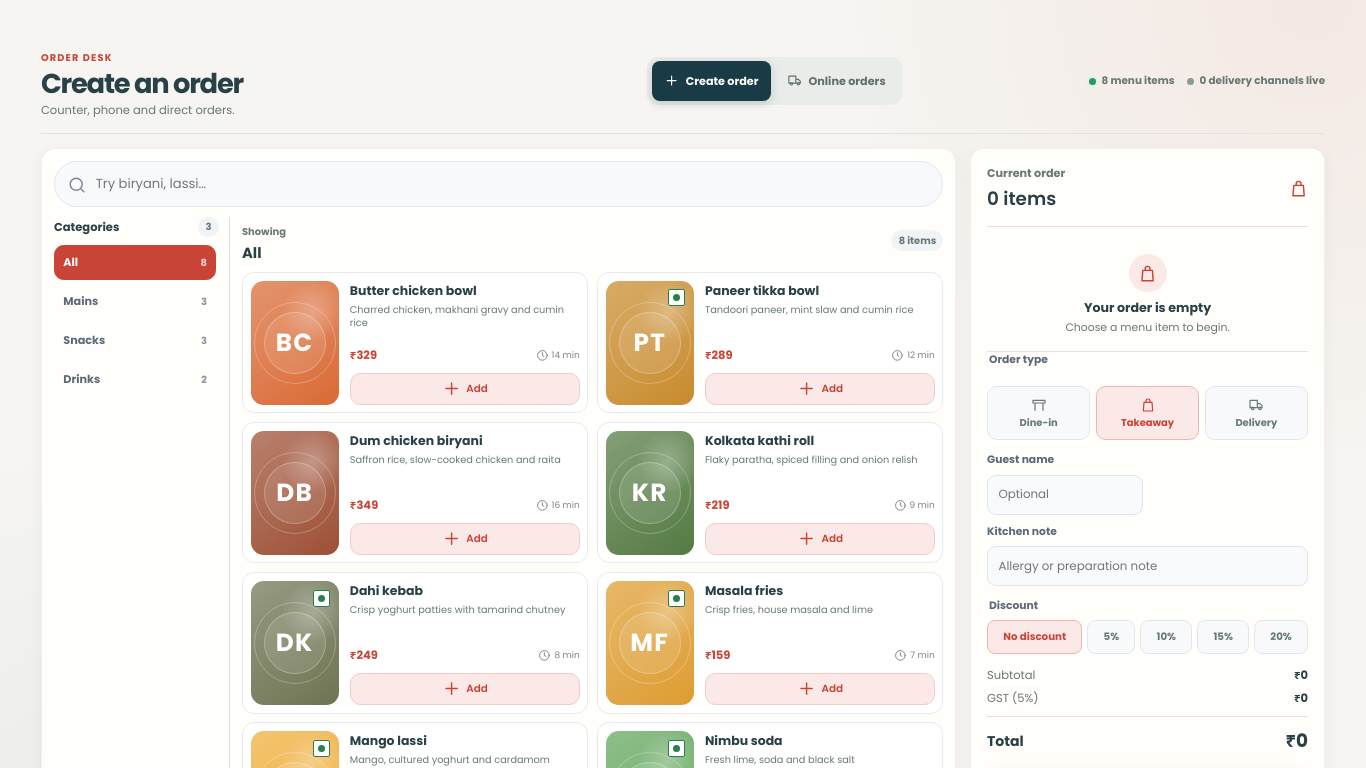
order entry › builds and sends a ticket using touch controls
The image size is (1366, 768).
Click the button "Add" below "₹329".
click(465, 389)  # box [350,373,580,405]
(page scrolled)
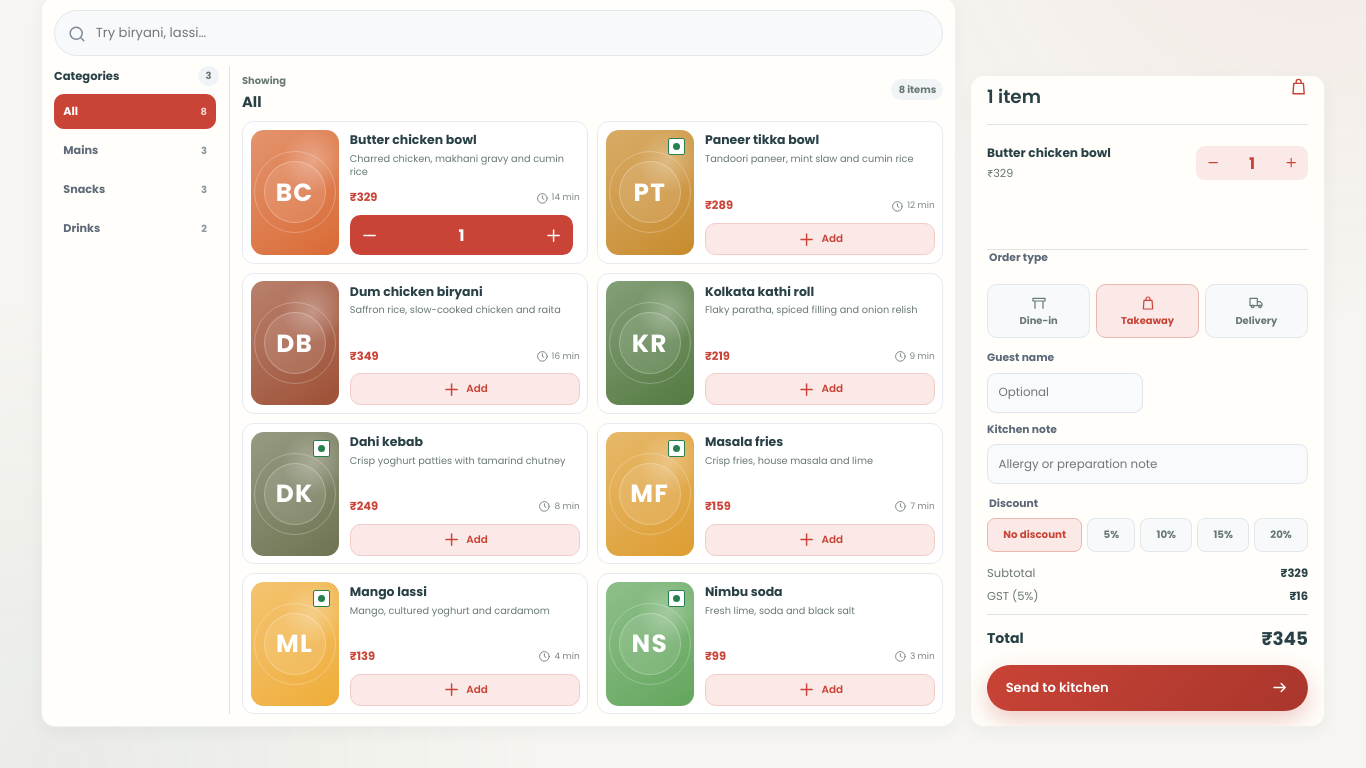
Click the button "Send to kitchen".
click(1057, 687)  # box [987,665,1308,711]
(page scrolled)
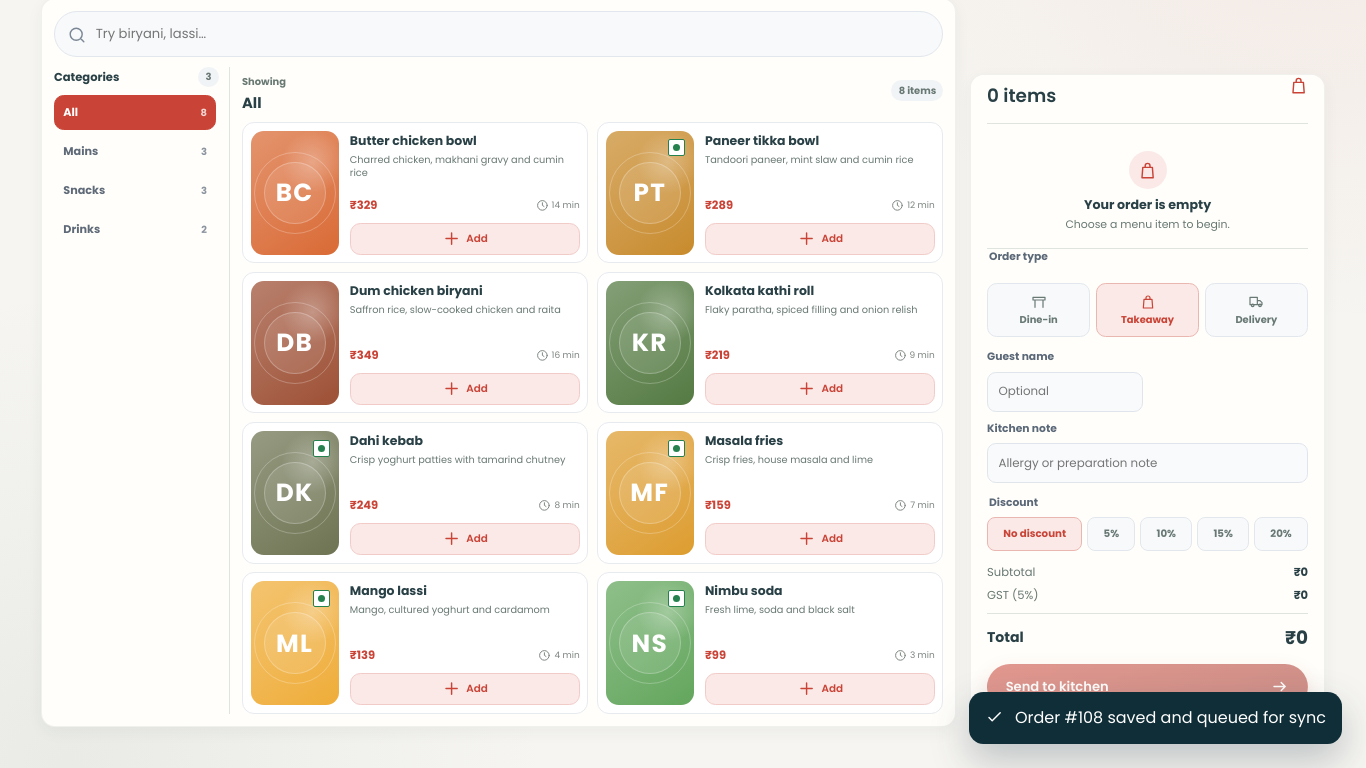
Expected: the text "saved and queued for sync" is shown, [1015,706,1326,729]
